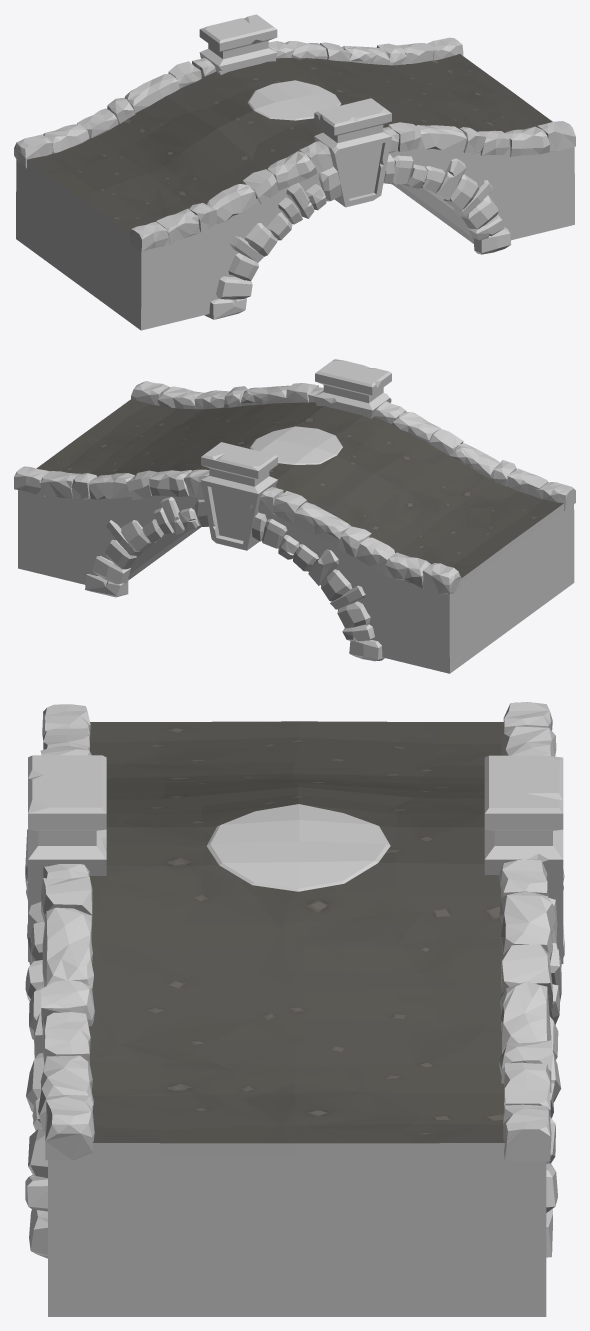
File: SM_Bld_Bridge_01.fbx
3 views of the same model, one above another, from view 1: azimuth 30°, elevation 25°; view 2: azimuth 150°, elevation 25°; view 3: azimuth 270°, elevation 25° (orthographic). The views are drawn at different scales.
Visible parts, largest first — view 1: SM_Bld_Bridge_01; view 2: SM_Bld_Bridge_01; view 3: SM_Bld_Bridge_01.
Part boxes in pixels (x1=…): SM_Bld_Bridge_01: x1=14, y1=14, x2=575, y2=330; SM_Bld_Bridge_01: x1=14, y1=359, x2=575, y2=673; SM_Bld_Bridge_01: x1=25, y1=702, x2=564, y2=1316.
Bounding box in the file's own units: 1013 × 374 × 541.
